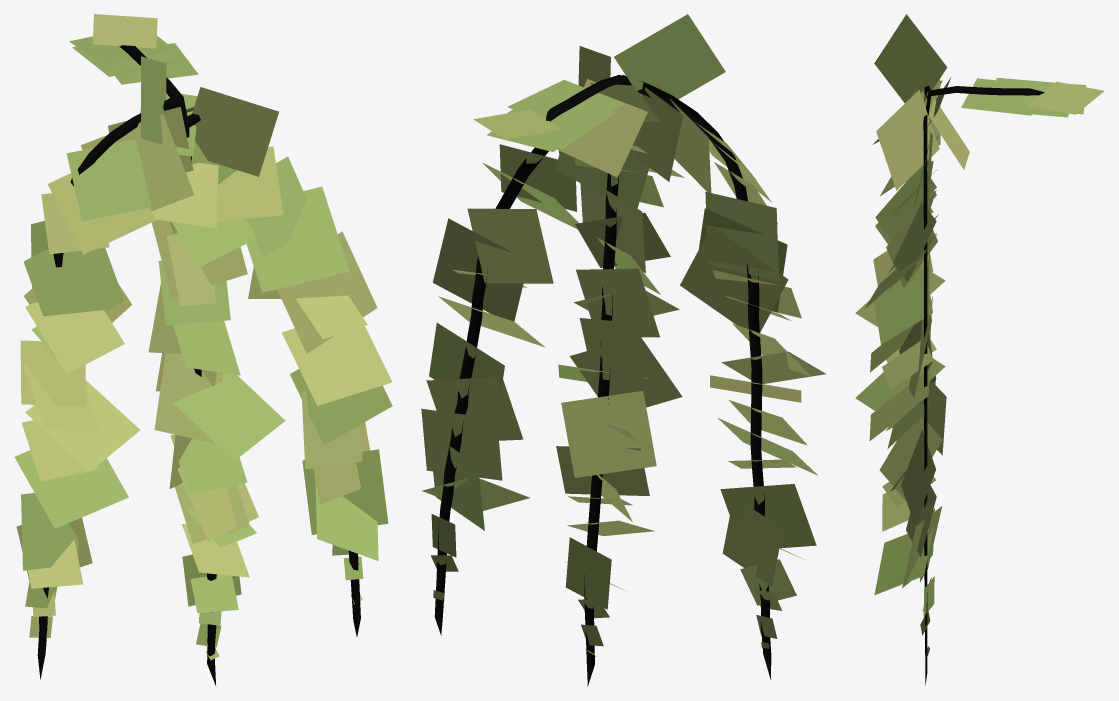
Rendered from Vine - wall 03.fbx.
3 views of the same model, side by side, from view 1: azimuth 30°, elevation 25°; view 2: azimuth 150°, elevation 25°; view 3: azimuth 270°, elevation 25° (orthographic). The views are drawn at different scales.
Parts seen in each view (by area): view 1: Vine_wall_03_LOD0; view 2: Vine_wall_03_LOD0; view 3: Vine_wall_03_LOD0.
Part boxes in pixels (x1=…): Vine_wall_03_LOD0: x1=14, y1=14, x2=392, y2=686; Vine_wall_03_LOD0: x1=421, y1=14, x2=826, y2=686; Vine_wall_03_LOD0: x1=855, y1=14, x2=1104, y2=685.
Size of what is drawn, in the model's own units: 1.1 by 0.7175 by 1.86.
